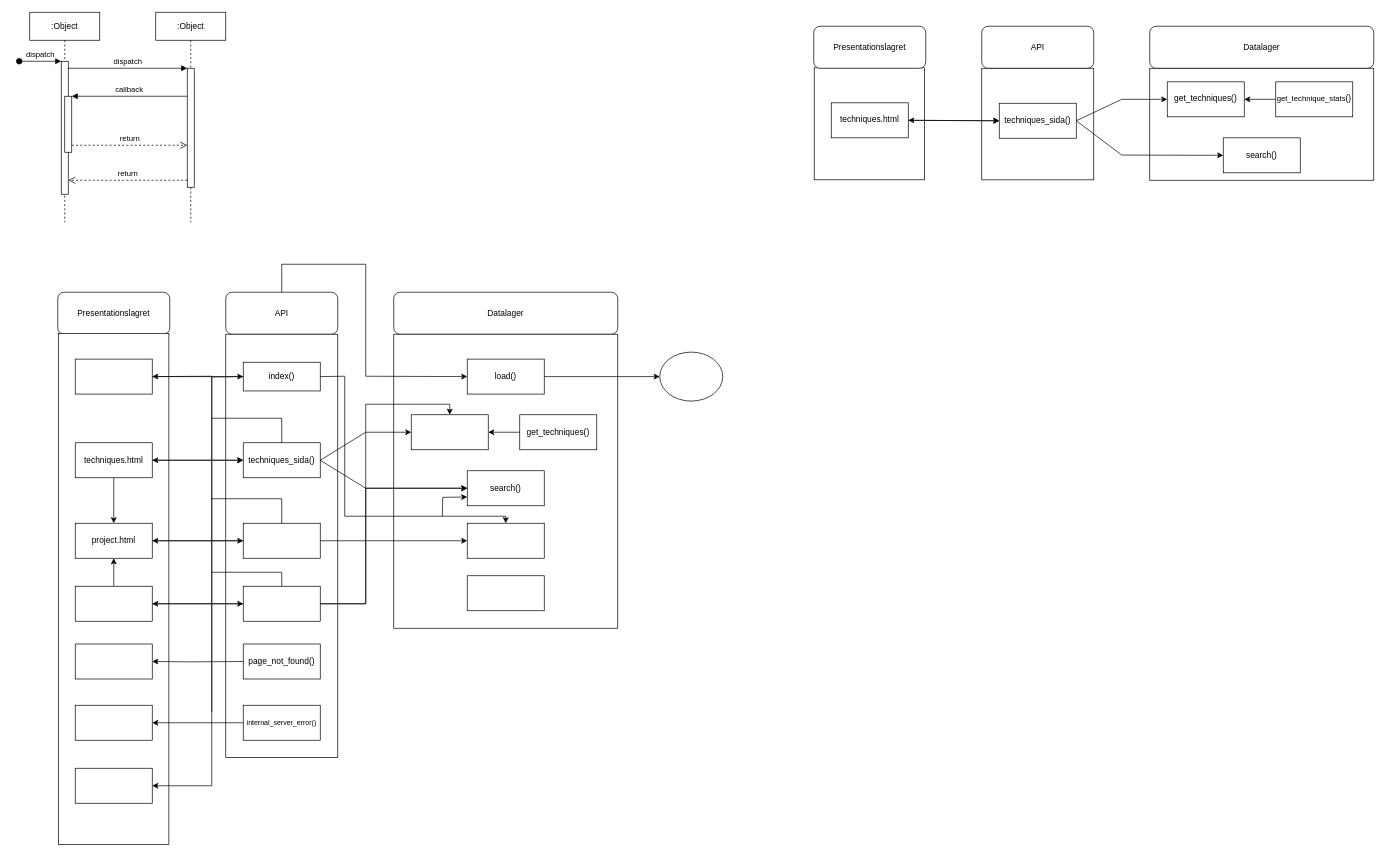
Image size: 1386x857. Some labels were removed from this diagram. The centre of each missing label's shape, as x and y in pixels:
404.html: the point at 113,661
500.html: the point at 113,722
Databas .JSON-fil: the point at 691,376
get_project(): the point at 505,540
get_project_count(): the point at 505,593
get_technique_stats(): the point at 449,432
index.html: the point at 113,376
list.html: the point at 113,603
list_sida(): the point at 281,603
project_details(): the point at 281,540
template.html: the point at 113,785
